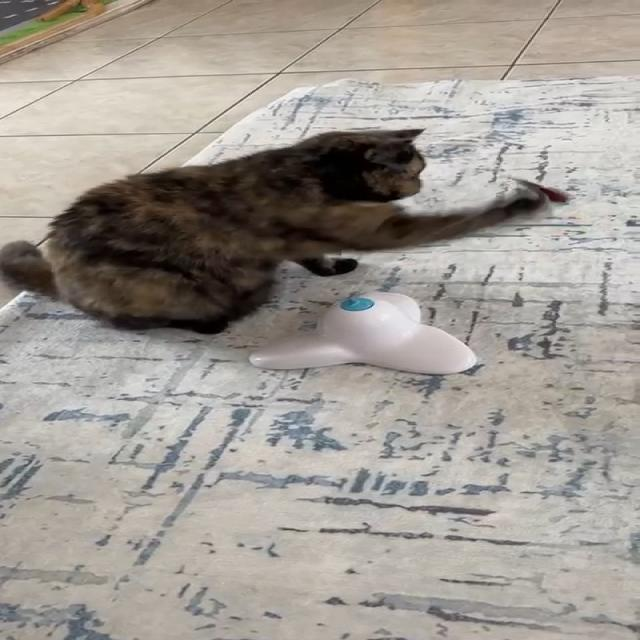authorized: (0, 126, 560, 334)
